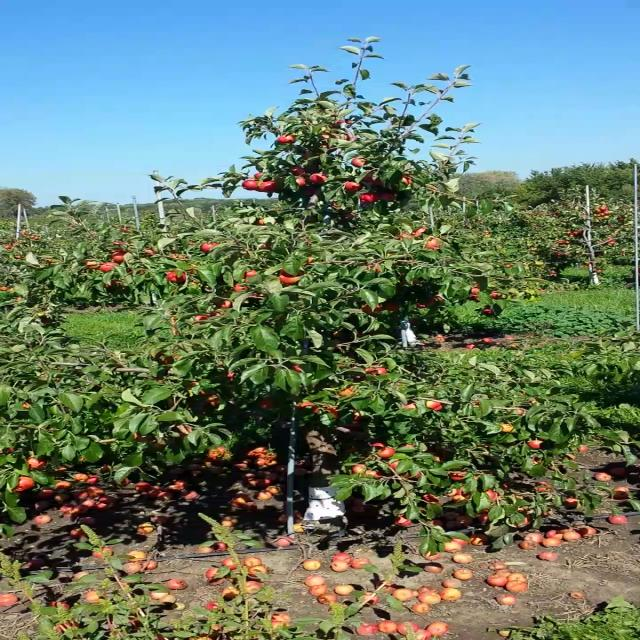apple: (313, 403, 339, 419), (204, 444, 227, 460), (279, 269, 303, 284), (510, 514, 532, 528), (13, 476, 33, 490), (414, 296, 436, 308), (361, 304, 385, 314), (132, 431, 156, 441), (176, 424, 193, 437), (452, 486, 469, 499), (27, 457, 47, 468), (309, 172, 327, 184), (258, 180, 276, 192), (167, 271, 185, 283), (376, 446, 395, 457), (359, 192, 377, 203), (338, 385, 356, 396), (476, 508, 490, 522), (258, 397, 274, 409), (201, 241, 219, 251), (101, 261, 119, 271), (424, 399, 442, 409), (421, 492, 439, 502), (397, 233, 419, 241), (529, 438, 546, 448), (425, 237, 439, 249), (113, 250, 127, 262), (242, 180, 258, 190), (344, 180, 360, 190), (212, 308, 228, 318), (303, 185, 316, 197), (191, 315, 210, 323), (276, 134, 294, 142), (169, 252, 187, 260), (499, 422, 513, 432), (149, 441, 167, 448), (352, 463, 365, 472), (351, 158, 365, 166), (382, 192, 396, 200), (384, 302, 398, 310), (402, 401, 418, 408), (364, 468, 378, 476), (452, 471, 468, 478), (389, 459, 400, 469), (485, 489, 496, 499), (415, 226, 427, 235), (85, 260, 98, 268), (362, 171, 372, 181), (446, 486, 456, 496), (291, 168, 305, 175), (351, 410, 359, 422), (208, 396, 217, 406), (298, 401, 316, 406), (245, 269, 256, 277), (470, 286, 481, 294), (411, 469, 422, 477), (319, 132, 333, 138), (141, 248, 155, 254), (401, 176, 411, 184), (220, 300, 230, 308), (364, 366, 380, 371), (235, 283, 248, 289), (296, 177, 305, 185), (377, 367, 387, 374), (2, 446, 13, 452), (226, 372, 234, 380), (189, 381, 199, 387), (372, 177, 380, 184), (371, 442, 385, 446), (489, 292, 498, 298), (346, 212, 354, 218), (262, 243, 270, 249), (306, 257, 314, 263), (400, 443, 415, 446), (104, 283, 111, 289), (200, 389, 207, 395), (254, 172, 262, 177), (482, 309, 492, 313), (257, 219, 263, 225), (163, 357, 169, 363), (292, 365, 298, 371), (110, 242, 126, 244), (516, 409, 524, 413), (374, 267, 379, 273), (437, 294, 442, 300), (433, 455, 439, 460)
